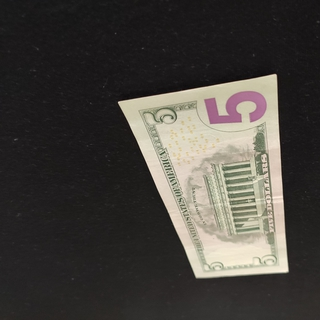5USDBack: (117, 73, 289, 279)
